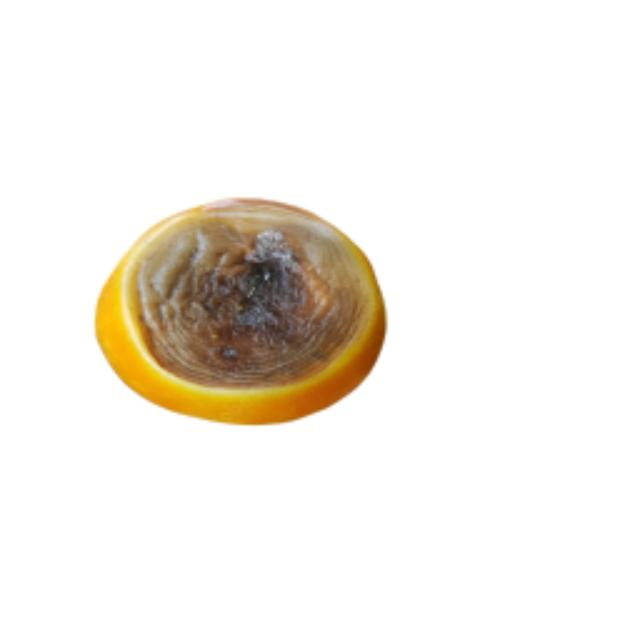defect: (96, 196, 388, 429)
